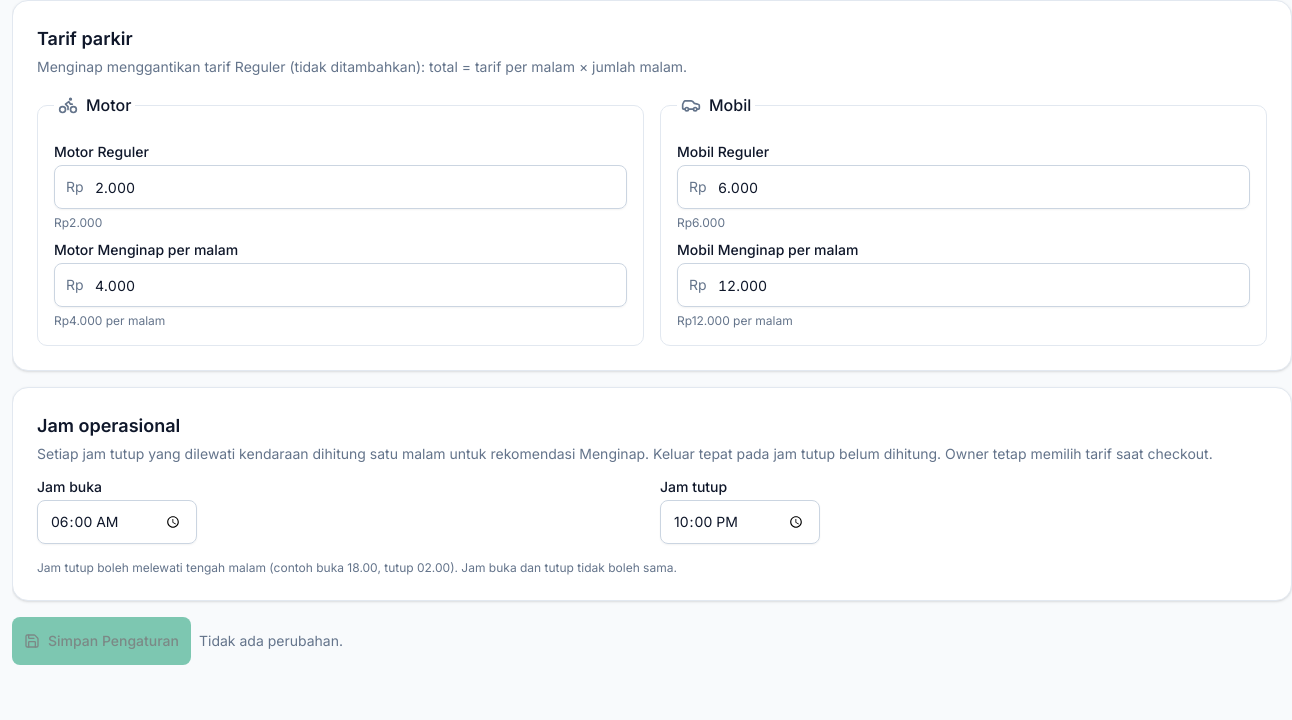
Test case: client validation (server stays authoritative) › amount 10.000.001 blocks saving
Replace the text in the field labelled "Mobil Reguler" with "10.000.001": (964, 187) [677,165,1250,209]
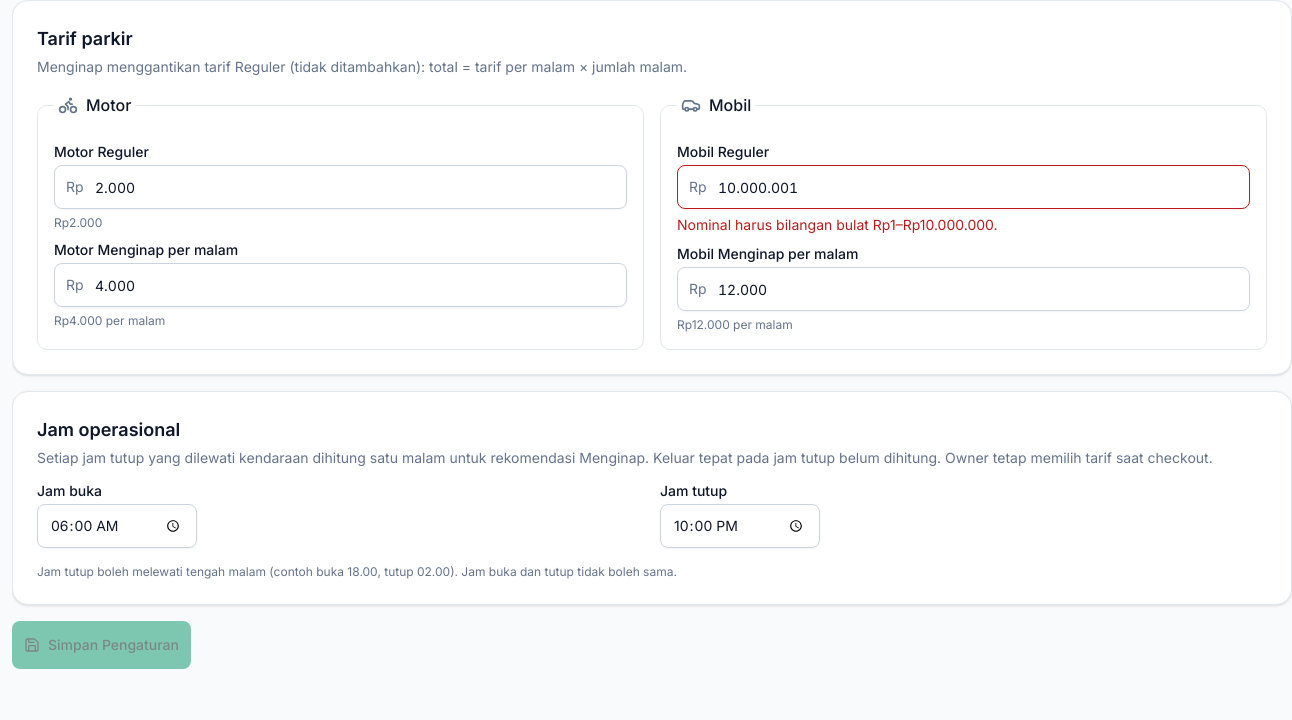
Expected: the button "Simpan Pengaturan" is disabled, [12,621,191,669]
Now the message shows "Rp1–Rp10.000.000", box [677,216,998,233]
